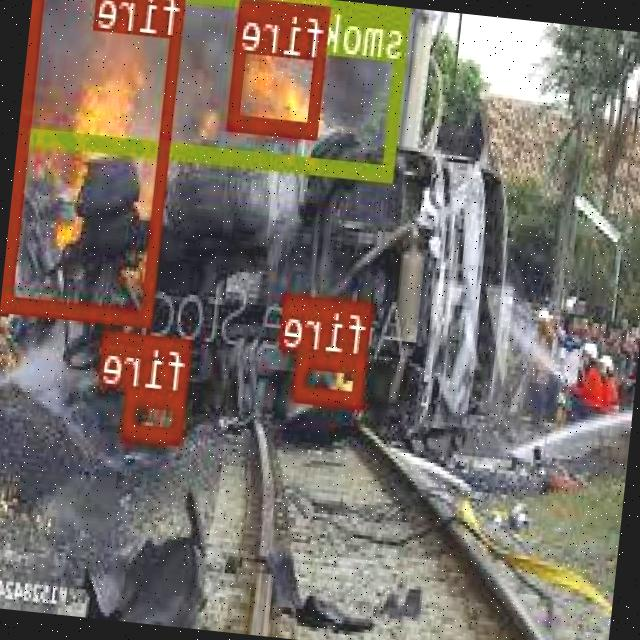fire: (4, 0, 189, 321), (229, 0, 332, 135), (296, 350, 369, 406), (124, 388, 187, 441)
smoke: (22, 0, 413, 177)
